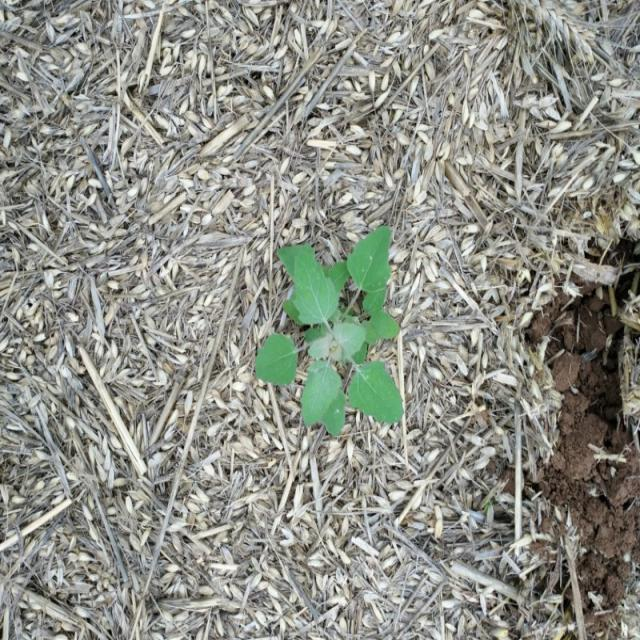goosefoots: (261, 211, 430, 447)
